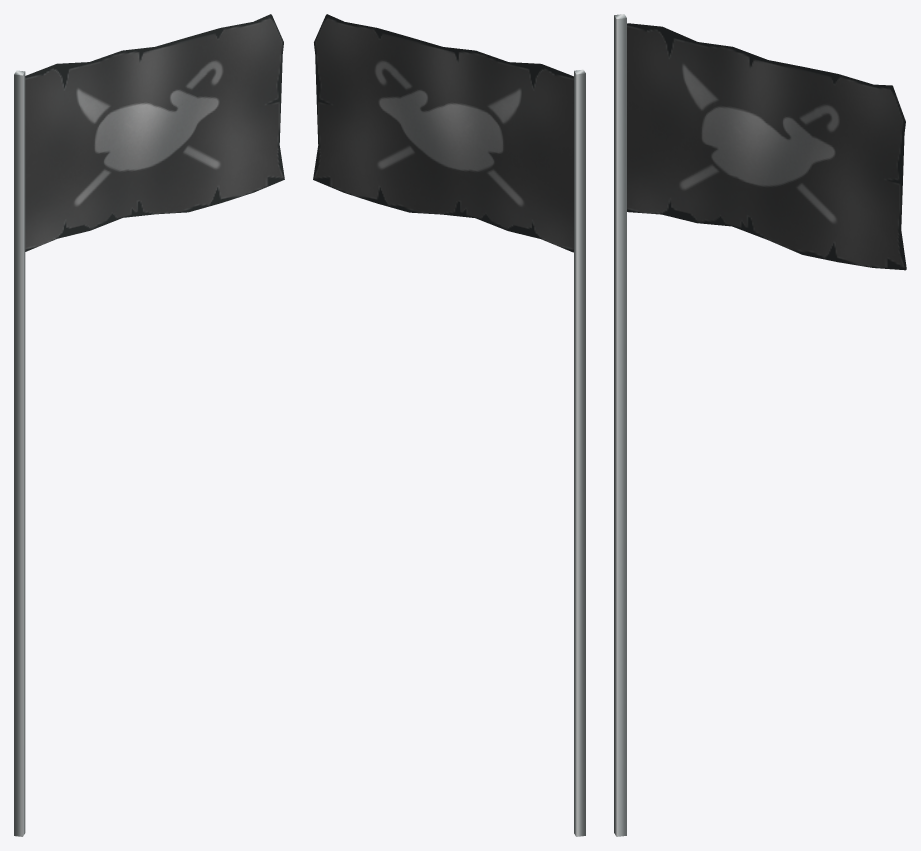
The model's file is item_flag.FBX.
3 views of the same model, side by side, from view 1: azimuth 30°, elevation 25°; view 2: azimuth 150°, elevation 25°; view 3: azimuth 330°, elevation 25° (orthographic). The views are drawn at different scales.
Parts seen in each view (by area): view 1: item_flag_01; view 2: item_flag_01; view 3: item_flag_01.
Part boxes in pixels (<box>): item_flag_01: <box>14,14,284,836</box>; item_flag_01: <box>313,14,585,836</box>; item_flag_01: <box>614,14,906,836</box>.
Size of the model in its own units: 115 by 307 by 4.94.
